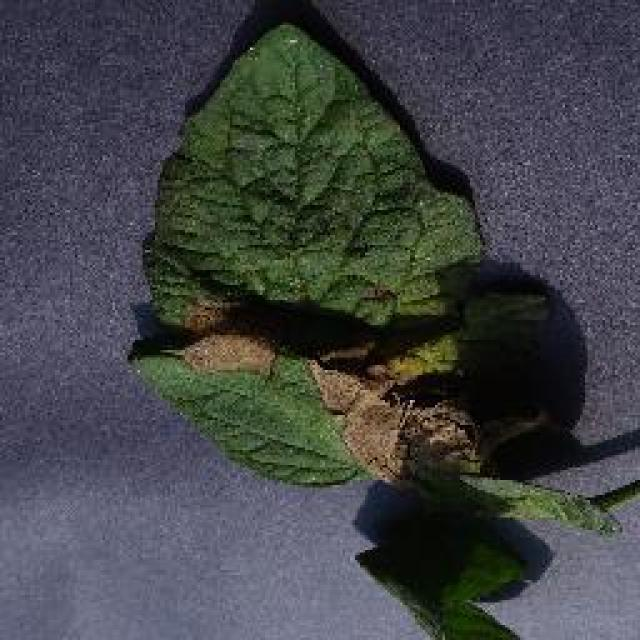Tomato Late Blight: (166, 275, 586, 563)
